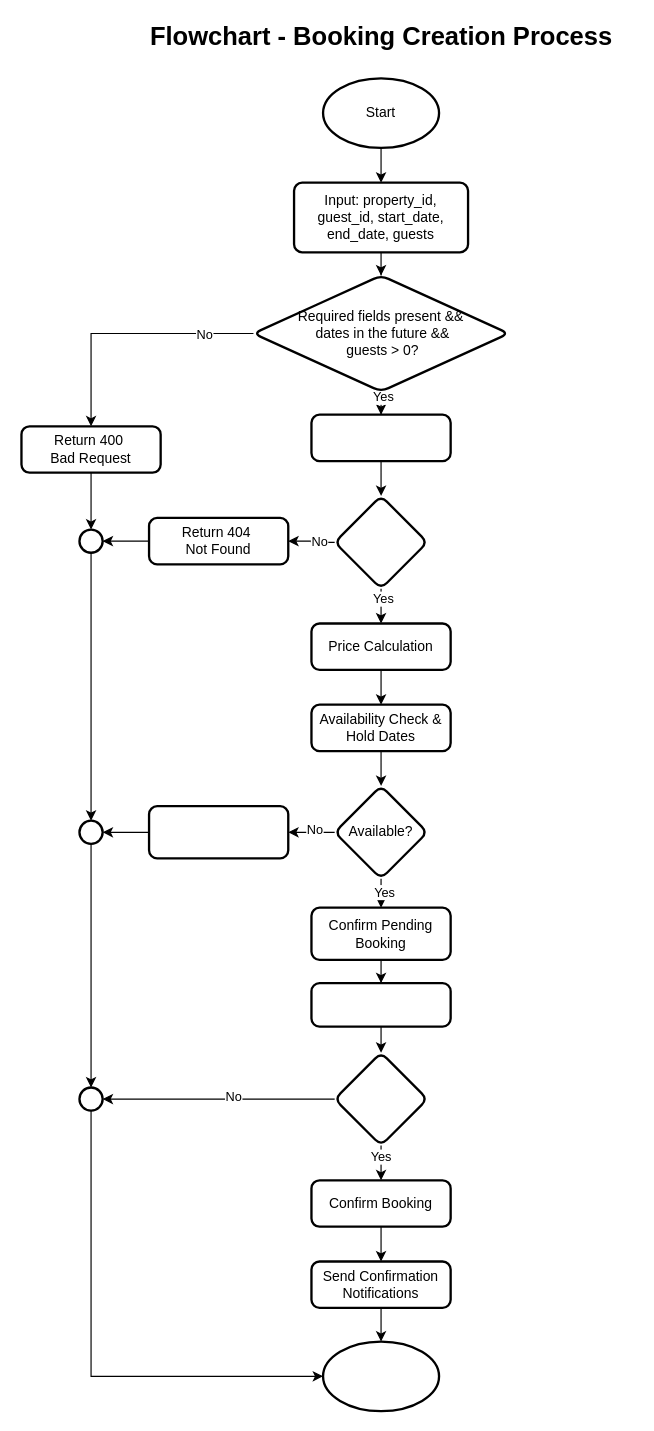
Image size: 654x1431. Some labels were removed from this diagram. Each missing label, with the centre of its shape:
Check Property Exists: the point at 380,437
End: the point at 380,1376
Initiate Payment: the point at 380,1004
Payment Outcome?: the point at 380,1098
Property found?: the point at 380,541
Return 409 Conflict (Unavailable): the point at 218,831
